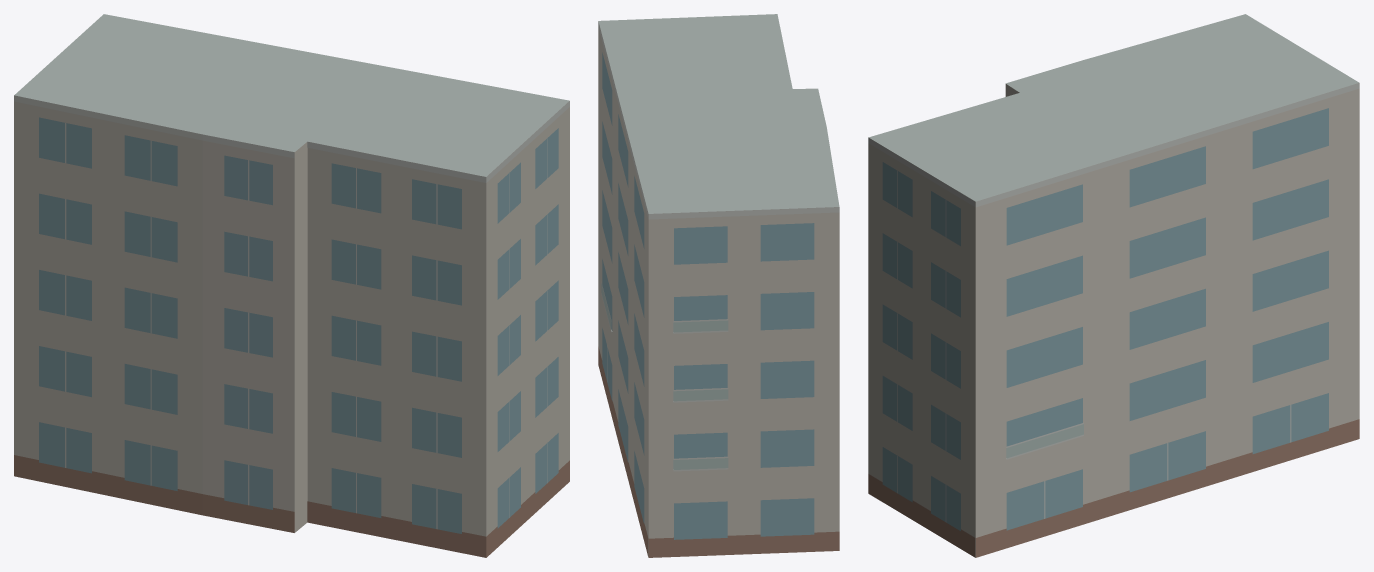
The model's file is survey-upis-33017572.glb.
3 views of the same model, side by side, from view 1: azimuth 30°, elevation 25°; view 2: azimuth 150°, elevation 25°; view 3: azimuth 270°, elevation 25° (orthographic). The views are drawn at different scales.
Parts seen in each view (by area): view 1: survey-upis-33017572.tmp; view 2: survey-upis-33017572.tmp; view 3: survey-upis-33017572.tmp.
Part boxes in pixels (x1,y1,x2,y2): survey-upis-33017572.tmp: (14,14,569,557); survey-upis-33017572.tmp: (598,14,839,557); survey-upis-33017572.tmp: (868,14,1359,557).
Bounding box in the file's own units: 17.09 × 15.11 × 18.89.
